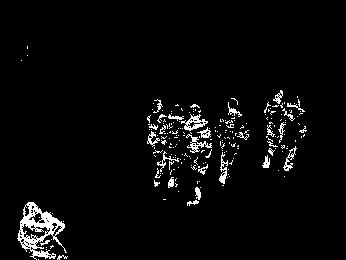person: (214, 96, 252, 187), (15, 200, 69, 260), (184, 100, 214, 208), (161, 102, 191, 190), (145, 97, 173, 191), (278, 94, 308, 173), (262, 89, 287, 169)
